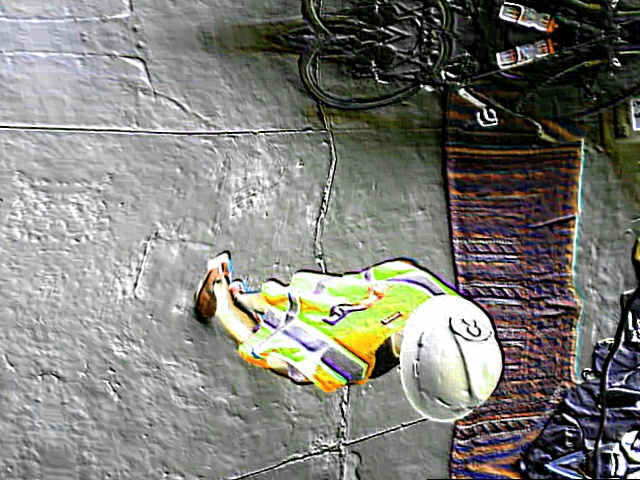eight: (447, 307, 496, 341)
